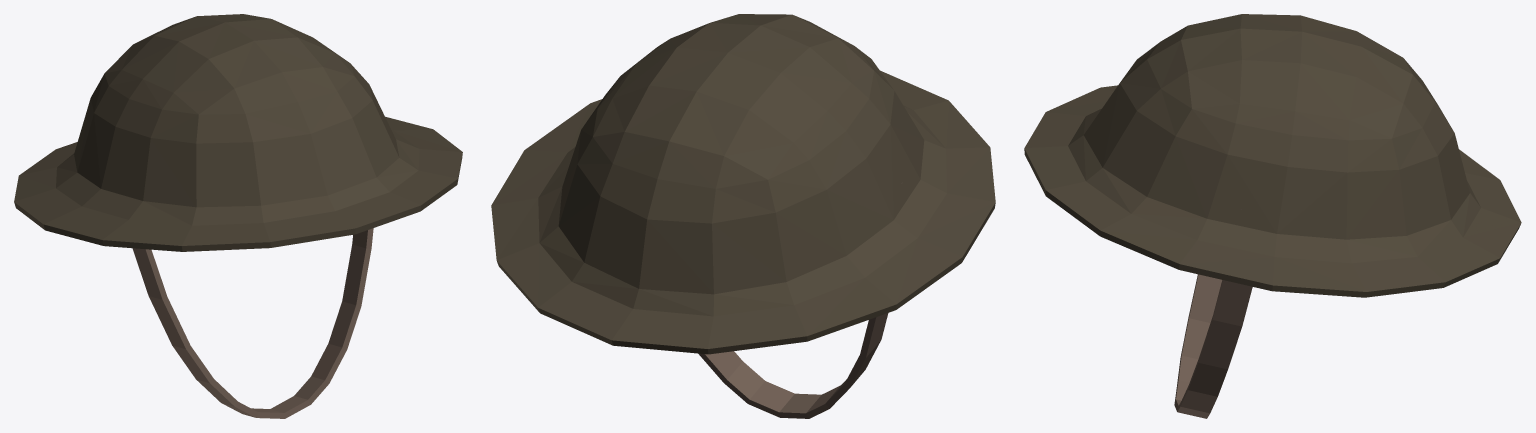
The model's file is Chr_Attach_Eng_Helmet_01.fbx.
3 views of the same model, side by side, from view 1: azimuth 30°, elevation 25°; view 2: azimuth 150°, elevation 25°; view 3: azimuth 270°, elevation 25° (orthographic). The views are drawn at different scales.
Visible parts, largest first — view 1: Chr_Attach_ENG_Helmet_01_LOD0; view 2: Chr_Attach_ENG_Helmet_01_LOD0; view 3: Chr_Attach_ENG_Helmet_01_LOD0.
Part boxes in pixels (x1,y1,x2,y2): Chr_Attach_ENG_Helmet_01_LOD0: [14, 14, 462, 418]; Chr_Attach_ENG_Helmet_01_LOD0: [491, 14, 995, 418]; Chr_Attach_ENG_Helmet_01_LOD0: [1024, 14, 1521, 418].
Size of what is drawn, in the model's own units: 33.08 by 29.33 by 34.48.
